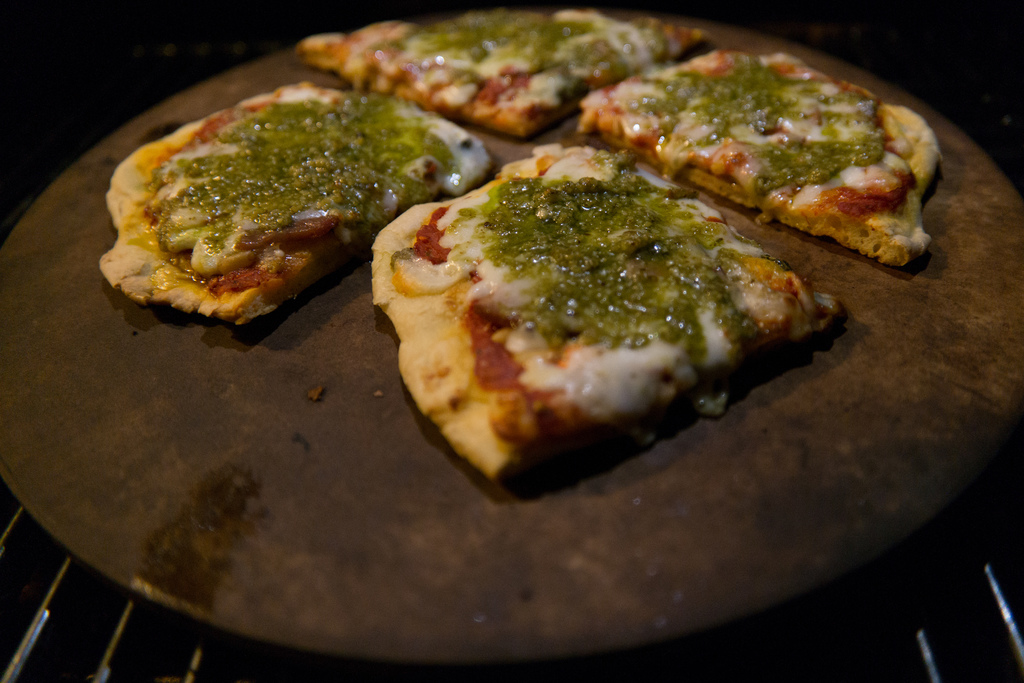Pizza: (358, 130, 803, 501), (89, 69, 496, 338), (577, 27, 979, 271), (296, 2, 703, 137)
